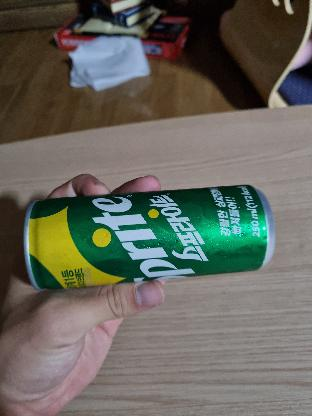Can: (21, 176, 274, 286)
